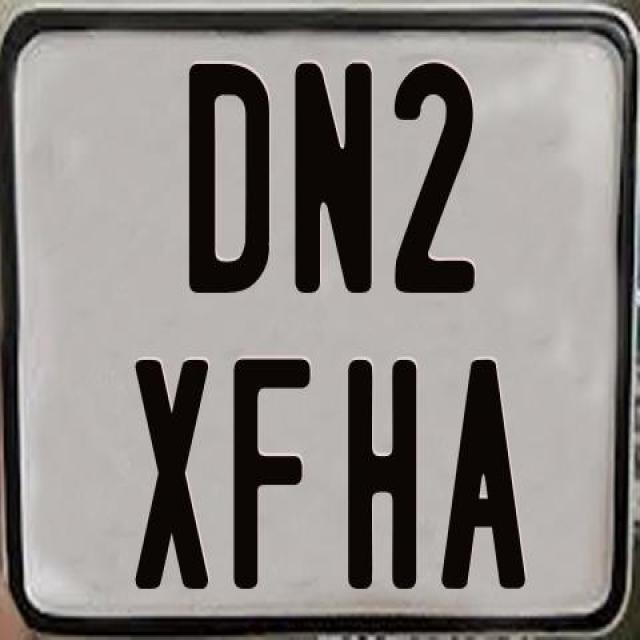2: (394, 63, 482, 300)
A: (438, 358, 530, 589)
D: (188, 61, 276, 293)
F: (233, 357, 312, 587)
H: (344, 355, 414, 587)
N: (294, 62, 378, 298)
X: (132, 357, 211, 587)
